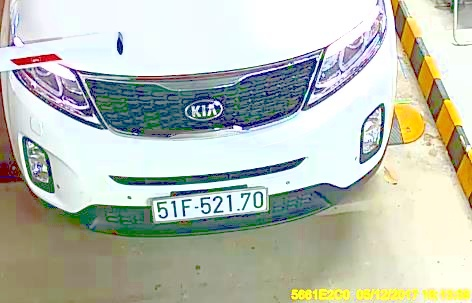plate: (150, 186, 274, 225)
